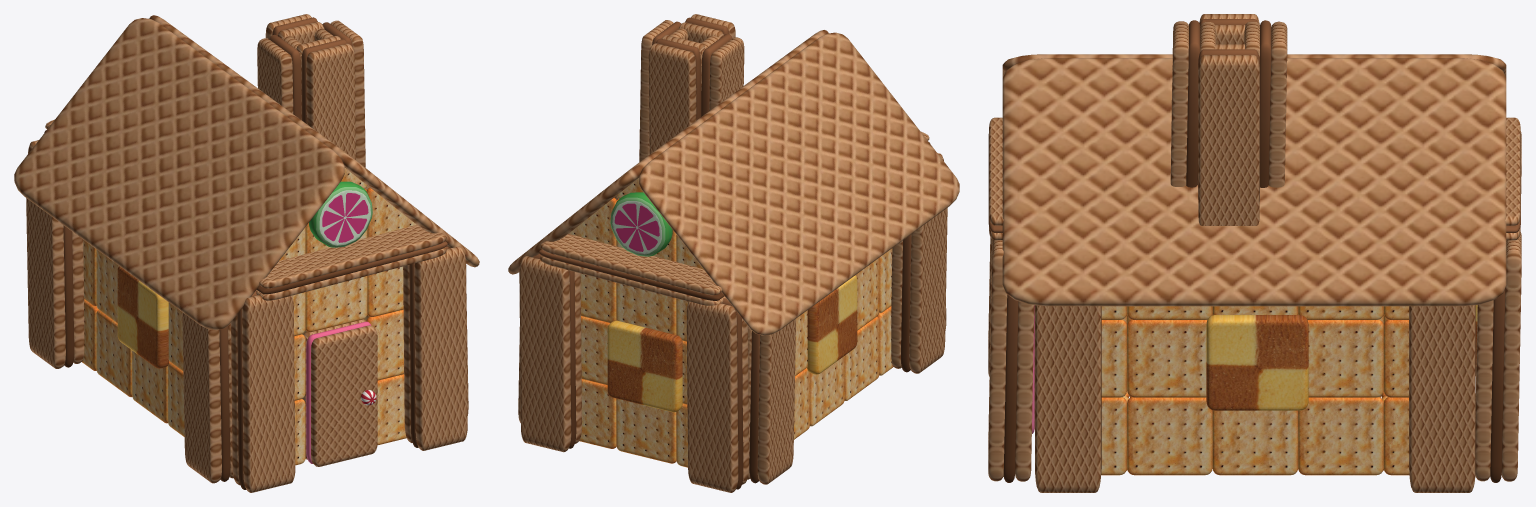
Rendered from cw_house_16.fbx.
3 views of the same model, side by side, from view 1: azimuth 30°, elevation 25°; view 2: azimuth 150°, elevation 25°; view 3: azimuth 270°, elevation 25° (orthographic). The views are drawn at different scales.
Visible parts, largest first — view 1: cw_house_16; view 2: cw_house_16; view 3: cw_house_16.
Part boxes in pixels (x1=…): cw_house_16: x1=14, y1=14, x2=479, y2=492; cw_house_16: x1=508, y1=14, x2=959, y2=492; cw_house_16: x1=988, y1=14, x2=1521, y2=492.
Size of the model in its own units: 477 by 585 by 674.
